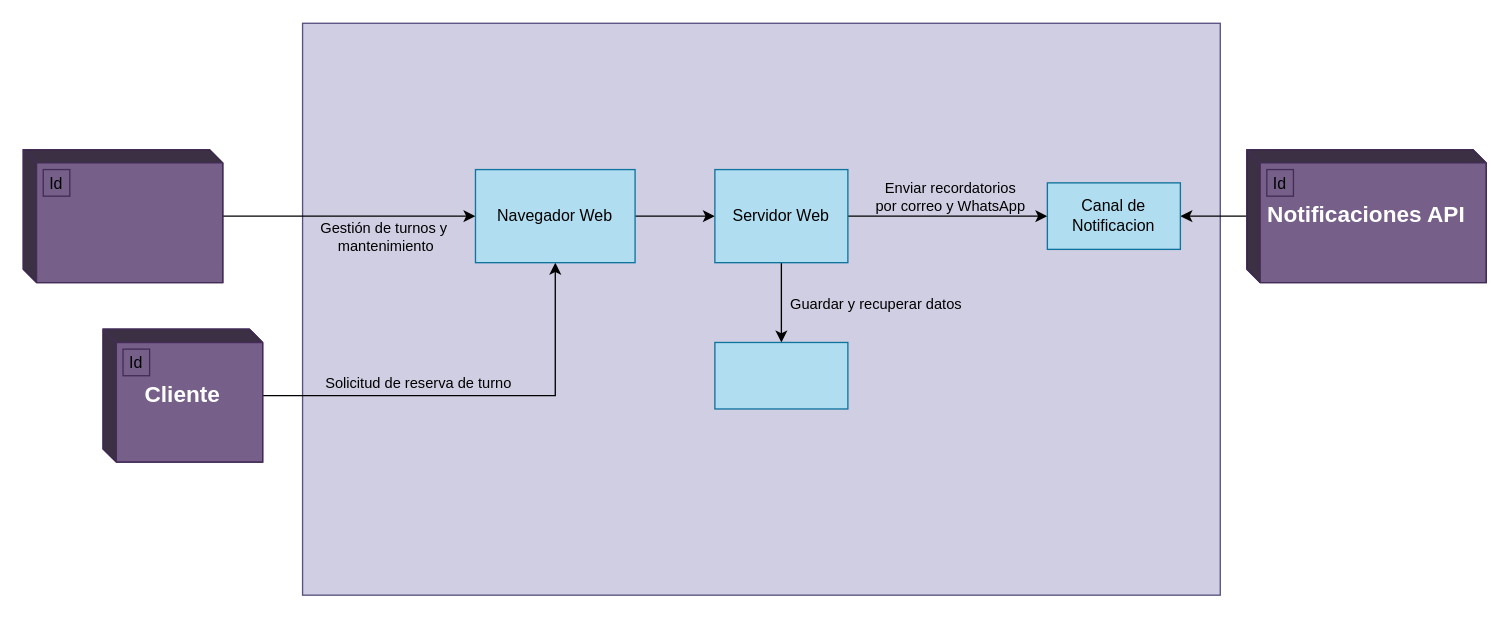
Some shapes in this 1510 by 618 pixel diagram are drawn without their labels. The box of each missing label's shape, as (x1, y1, x2, y2) in pixels:
Administrador: (22, 148, 223, 283)
Base de Datos: (714, 341, 848, 409)
